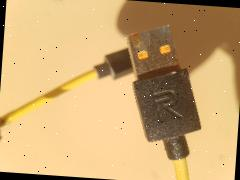electronic: (0, 59, 225, 179)
